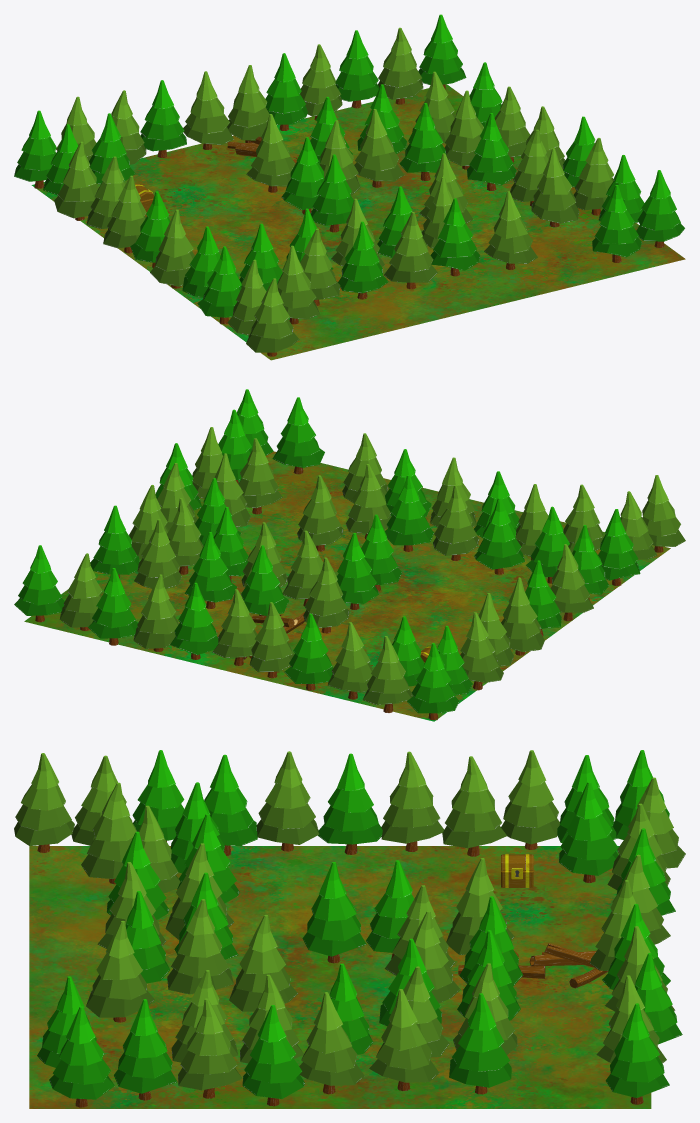
Rendered from lvl_0-cnk_1.obj.
3 renders of one model, top to bottom at view 1: azimuth 30°, elevation 25°; view 2: azimuth 150°, elevation 25°; view 3: azimuth 270°, elevation 25°, orthographic. The views are drawn at different scales.
Visible parts, largest first — view 1: Cube.008, Arbol_1.045, Arbol_1.076, Arbol_1.090, Arbol_1.187, Arbol_1.196, Arbol_1.084, Arbol_1.086, Arbol_1.198, Arbol_1.195, Arbol_1.075, Arbol_1.054 (+44 smaller); view 2: Cube.008, Arbol_1.066, Arbol_1.086, Arbol_1.085, Arbol_1.078, Arbol_1.201, Arbol_1.061, Arbol_1.070, Arbol_1.072, Arbol_1.184, Arbol_1.047, Arbol_1.092 (+44 smaller); view 3: Cube.008, Arbol_1.196, Arbol_1.161, Arbol_1.082, Arbol_1.049, Arbol_1.054, Arbol_1.060, Arbol_1.058, Arbol_1.051, Arbol_1.085, Arbol_1.056, Arbol_1.200 (+46 smaller).
Boxes of the visible parts, x1,y1,x2,y2 form: Cube.008: [31, 84, 685, 360]; Arbol_1.045: [246, 278, 299, 356]; Arbol_1.076: [384, 212, 437, 289]; Arbol_1.090: [531, 148, 579, 227]; Arbol_1.187: [183, 71, 233, 149]; Arbol_1.196: [484, 191, 537, 269]; Arbol_1.084: [354, 109, 404, 187]; Arbol_1.086: [592, 185, 641, 262]; Arbol_1.198: [467, 113, 516, 190]; Arbol_1.195: [430, 198, 480, 276]; Arbol_1.075: [338, 221, 388, 299]; Arbol_1.054: [636, 170, 684, 247]; Cube.008: [24, 451, 670, 721]; Arbol_1.066: [407, 643, 459, 720]; Arbol_1.086: [272, 397, 324, 474]; Arbol_1.085: [14, 545, 64, 622]; Arbol_1.078: [88, 568, 137, 645]; Arbol_1.201: [385, 474, 434, 551]; Arbol_1.061: [474, 497, 524, 574]; Arbol_1.070: [284, 613, 333, 690]; Arbol_1.072: [133, 574, 178, 651]; Arbol_1.184: [170, 582, 218, 659]; Arbol_1.047: [362, 636, 412, 712]; Arbol_1.092: [433, 485, 479, 560]; Cube.008: [29, 846, 651, 1108]; Arbol_1.196: [86, 921, 154, 1022]; Arbol_1.161: [449, 993, 511, 1094]; Arbol_1.082: [369, 989, 439, 1090]; Arbol_1.049: [256, 751, 319, 851]; Arbol_1.054: [49, 1006, 114, 1107]; Arbol_1.060: [299, 992, 364, 1094]; Arbol_1.058: [242, 1005, 304, 1106]; Arbol_1.051: [318, 753, 382, 854]; Arbol_1.085: [605, 1003, 669, 1104]; Arbol_1.056: [178, 998, 242, 1098]; Arbol_1.200: [302, 862, 366, 963].
Bounding box in the file's own units: 108 × 17.47 × 107.
